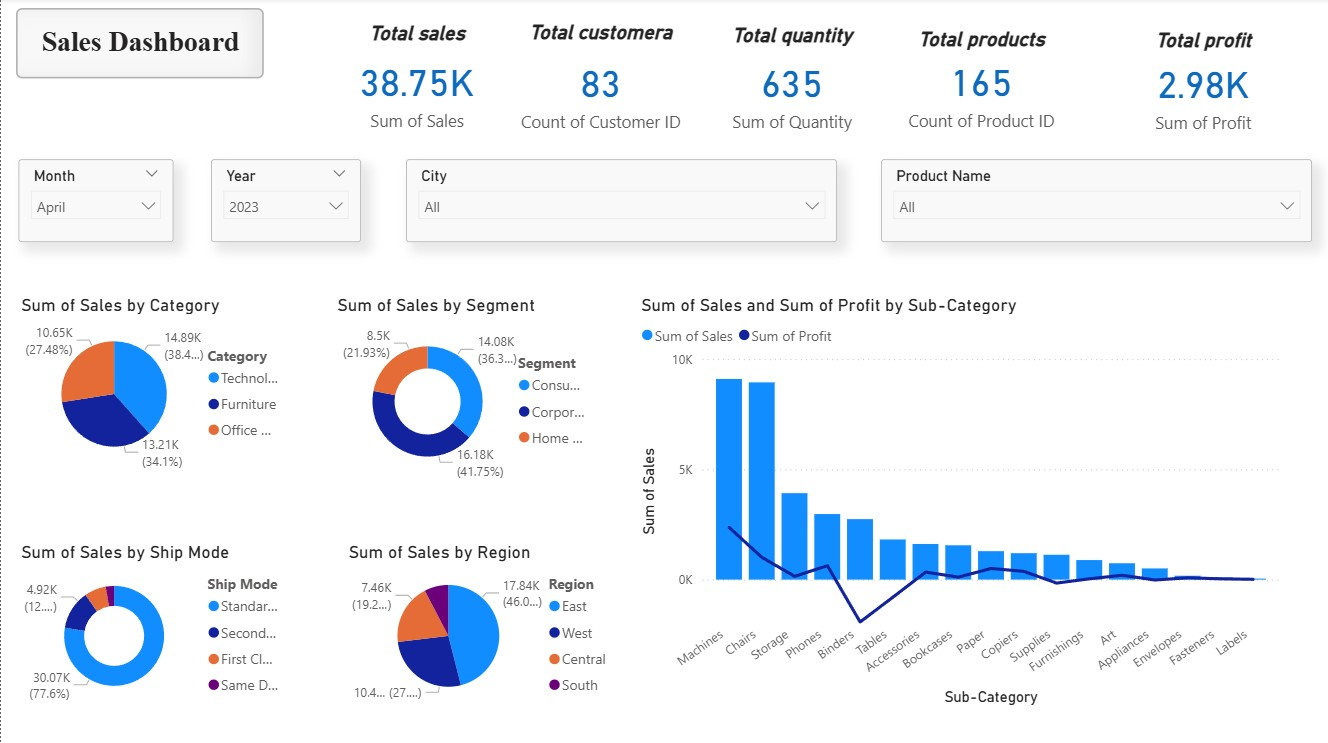

The page's visual inventory and layout, read from the dashboard file:
{"tool":"powerbi","page":{"name":"Page 1","canvas":[1280,720],"ordinal":0},"visuals":[{"type":"textbox","box":[14.5,9.7,238.9,68],"z":0},{"type":"slicer","fields":{"Values":["Sales Overview Data xlsx - Sales Data.City"]},"box":[390.9,155.6,416.2,79.6],"z":1000},{"type":"slicer","fields":{"Values":["Sales Overview Data xlsx - Sales Data.Product Name"]},"box":[849.3,155.6,416.2,79.6],"z":2000},{"type":"slicer","fields":{"Values":["Sales Overview Data xlsx - Sales Data.Order Date.Variation.Date Hierarchy.Month"]},"box":[16.9,155.6,149.6,79.6],"z":3000},{"type":"slicer","fields":{"Values":["Sales Overview Data xlsx - Sales Data.Order Date.Variation.Date Hierarchy.Year"]},"box":[202.7,155.6,144.8,79.6],"z":4000},{"type":"card","title":"Total sales","fields":{"Values":["Sum(Sales Overview Data xlsx - Sales Data.Sales)"]},"box":[310.1,14.5,183.4,125.5],"z":5000},{"type":"card","title":"Total profit","fields":{"Values":["Sum(Sales Overview Data xlsx - Sales Data.Profit)"]},"box":[1058,18.1,205.1,125.5],"z":6000},{"type":"card","title":"Total quantity","fields":{"Values":["Sum(Sales Overview Data xlsx - Sales Data.Quantity)"]},"box":[678,14.5,171.3,125.5],"z":7000},{"type":"card","title":"Total customera","fields":{"Values":["Count(Sales Overview Data xlsx - Sales Data.Customer ID)"]},"box":[477.8,9.7,202.7,130.3],"z":8000},{"type":"card","title":"Total products","fields":{"Values":["Count(Sales Overview Data xlsx - Sales Data.Product ID)"]},"box":[834.9,18.1,223.2,118.2],"z":9000},{"type":"pieChart","fields":{"Category":["Sales Overview Data xlsx - Sales Data.Category"],"Y":["Sum(Sales Overview Data xlsx - Sales Data.Sales)"]},"box":[14.5,285.9,267.8,173.7],"z":10000},{"type":"pieChart","fields":{"Category":["Sales Overview Data xlsx - Sales Data.Region"],"Y":["Sum(Sales Overview Data xlsx - Sales Data.Sales)"]},"box":[330.6,524.8,267.8,162.9],"z":11000},{"type":"donutChart","fields":{"Y":["Sum(Sales Overview Data xlsx - Sales Data.Sales)"],"Series":["Sales Overview Data xlsx - Sales Data.Segment"]},"box":[319.7,285.9,259.4,188.2],"z":12000},{"type":"donutChart","fields":{"Y":["Sum(Sales Overview Data xlsx - Sales Data.Sales)"],"Category":["Sales Overview Data xlsx - Sales Data.Ship Mode"]},"box":[14.5,524.8,267.8,162.9],"z":13000},{"type":"lineClusteredColumnComboChart","fields":{"Y":["Sum(Sales Overview Data xlsx - Sales Data.Sales)"],"Category":["Sales Overview Data xlsx - Sales Data.Sub-Category"],"Y2":["Sum(Sales Overview Data xlsx - Sales Data.Profit)"]},"box":[612.9,285.9,626.1,401.7],"z":14000}]}

Visuals, with their boxes in screenshot pixels (x1, y1, x2, y2), scaled from the page's 1280x720 canvas onto the 1328x743 screenshot:
textbox: Rect(15, 10, 263, 80)
slicer - Sales Overview Data xlsx - Sales Data.City: Rect(406, 161, 837, 243)
slicer - Sales Overview Data xlsx - Sales Data.Product Name: Rect(881, 161, 1313, 243)
slicer - Sales Overview Data xlsx - Sales Data.Order Date.Variation.Date Hierarchy.Month: Rect(18, 161, 173, 243)
slicer - Sales Overview Data xlsx - Sales Data.Order Date.Variation.Date Hierarchy.Year: Rect(210, 161, 361, 243)
"Total sales" card: Rect(322, 15, 512, 144)
"Total profit" card: Rect(1098, 19, 1310, 148)
"Total quantity" card: Rect(703, 15, 881, 144)
"Total customera" card: Rect(496, 10, 706, 144)
"Total products" card: Rect(866, 19, 1098, 141)
pieChart - Sales Overview Data xlsx - Sales Data.Category x Sum(Sales Overview Data xlsx - Sales Data.Sales): Rect(15, 295, 293, 474)
pieChart - Sales Overview Data xlsx - Sales Data.Region x Sum(Sales Overview Data xlsx - Sales Data.Sales): Rect(343, 542, 621, 710)
donutChart - Sum(Sales Overview Data xlsx - Sales Data.Sales) x Sales Overview Data xlsx - Sales Data.Segment: Rect(332, 295, 601, 489)
donutChart - Sum(Sales Overview Data xlsx - Sales Data.Sales) x Sales Overview Data xlsx - Sales Data.Ship Mode: Rect(15, 542, 293, 710)
lineClusteredColumnComboChart - Sum(Sales Overview Data xlsx - Sales Data.Sales) x Sales Overview Data xlsx - Sales Data.Sub-Category: Rect(636, 295, 1285, 710)
